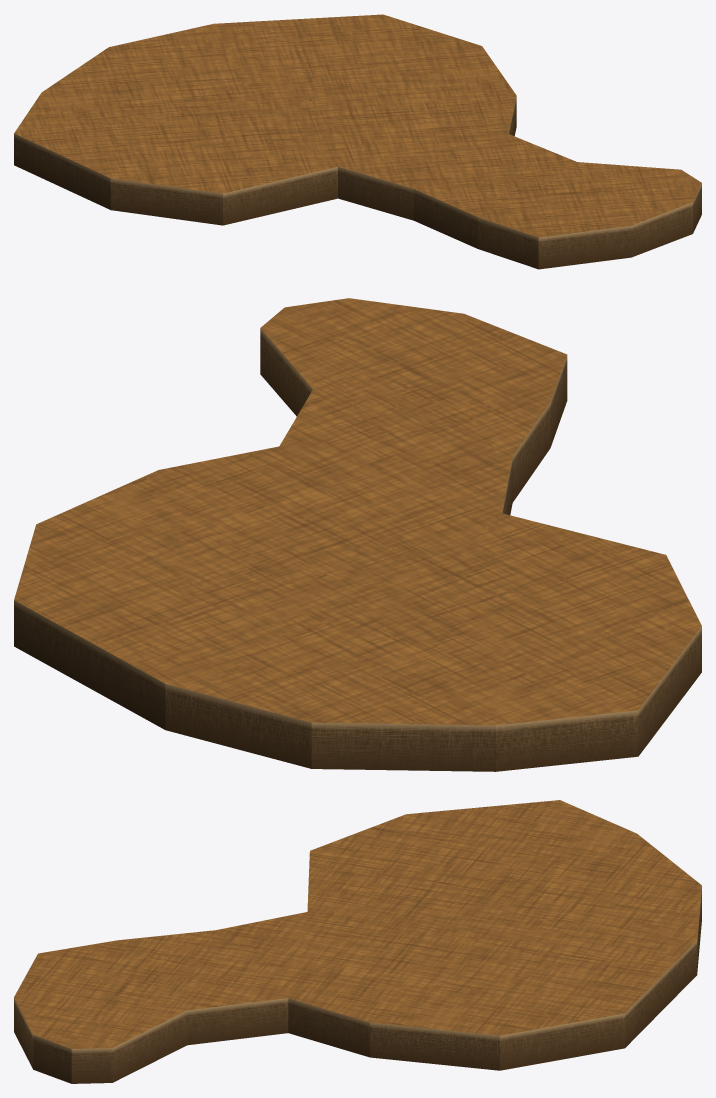
The model's file is Terrain04_C.FBX.
The picture shows the model from 3 angles, top to bottom: view 1: azimuth 30°, elevation 25°; view 2: azimuth 150°, elevation 25°; view 3: azimuth 270°, elevation 25°; orthographic projection. The views are drawn at different scales.
Parts seen in each view (by area): view 1: Terrain04_C; view 2: Terrain04_C; view 3: Terrain04_C.
Boxes of the visible parts, bbox=[...] form: Terrain04_C: bbox=[14, 14, 701, 269]; Terrain04_C: bbox=[14, 298, 701, 771]; Terrain04_C: bbox=[14, 800, 701, 1083].
Bounding box in the file's own units: 765 × 49.97 × 893.
1 material, 1 textured.
